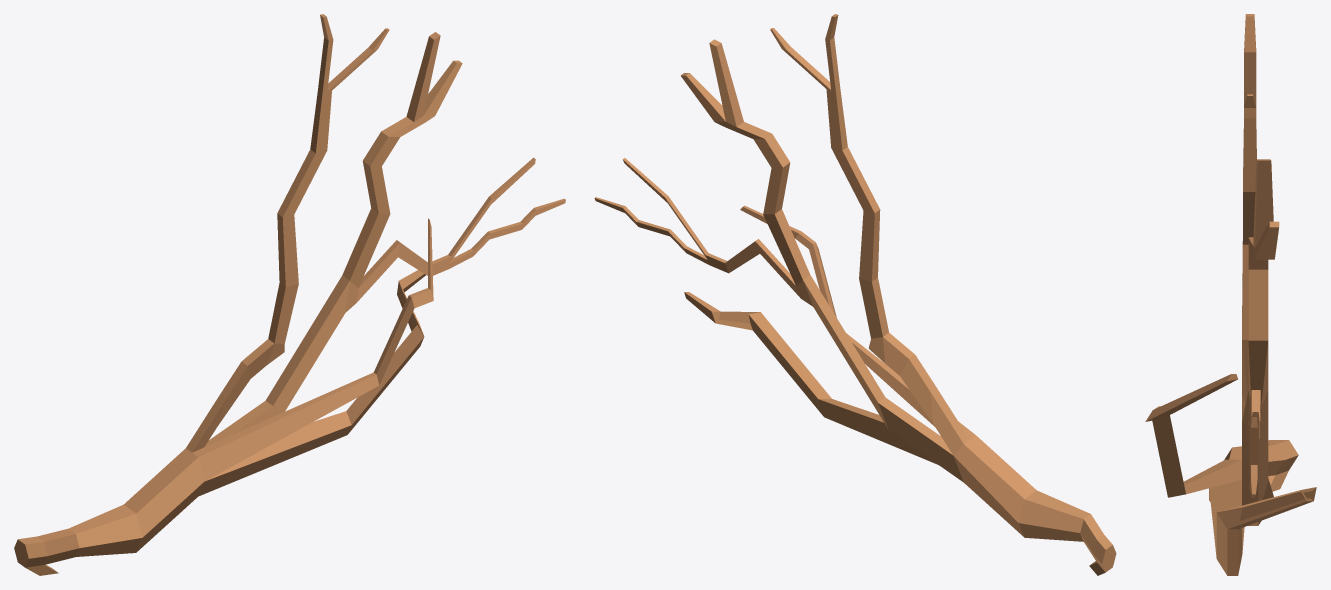
Rendered from 001_ダケカンバ.fbx.
The picture shows the model from 3 angles, left to right: view 1: azimuth 30°, elevation 25°; view 2: azimuth 150°, elevation 25°; view 3: azimuth 270°, elevation 25°; orthographic projection. The views are drawn at different scales.
Visible parts, largest first — view 1: 円柱; view 2: 円柱; view 3: 円柱.
Part boxes in pixels (x1,y1,x2,y2): 円柱: (14, 14, 565, 575); 円柱: (594, 14, 1116, 575); 円柱: (1145, 14, 1316, 575).
Bounding box in the file's own units: 740 × 656 × 156.
